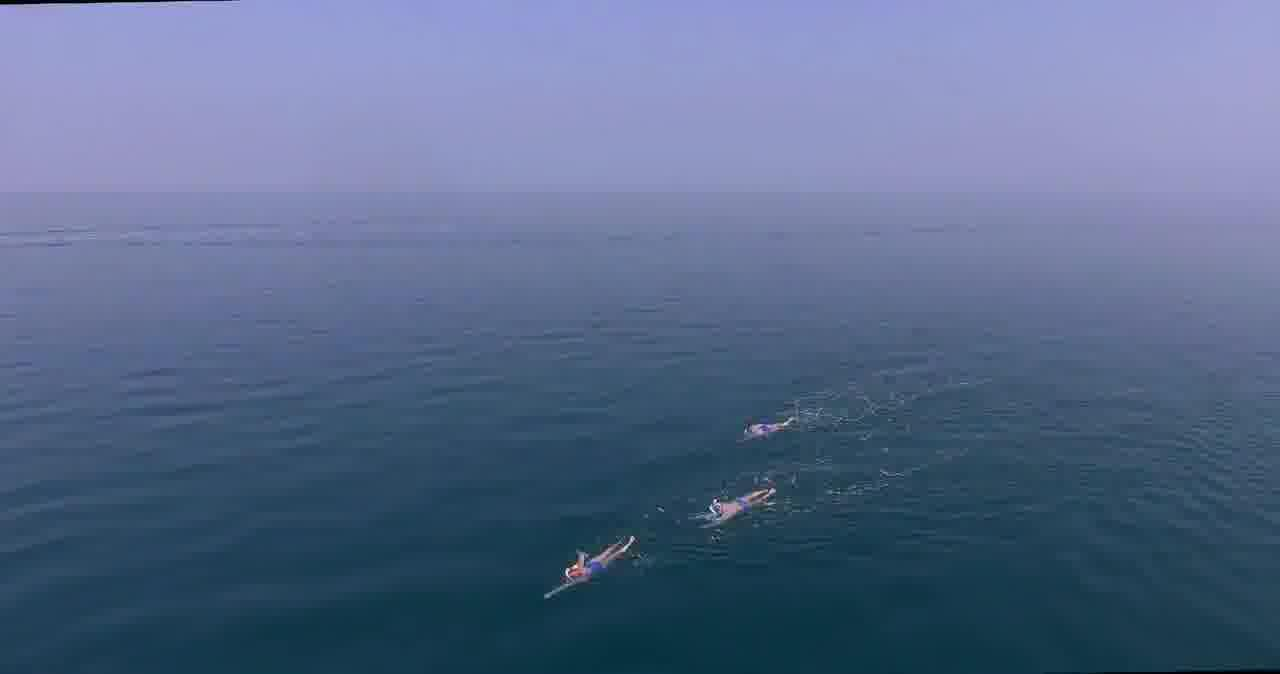human: (541, 539, 644, 603), (691, 482, 772, 529), (736, 409, 792, 442)
